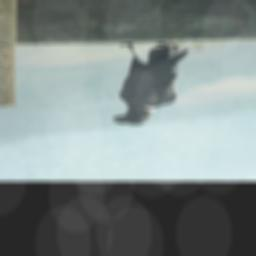Crow: (110, 43, 190, 126)
